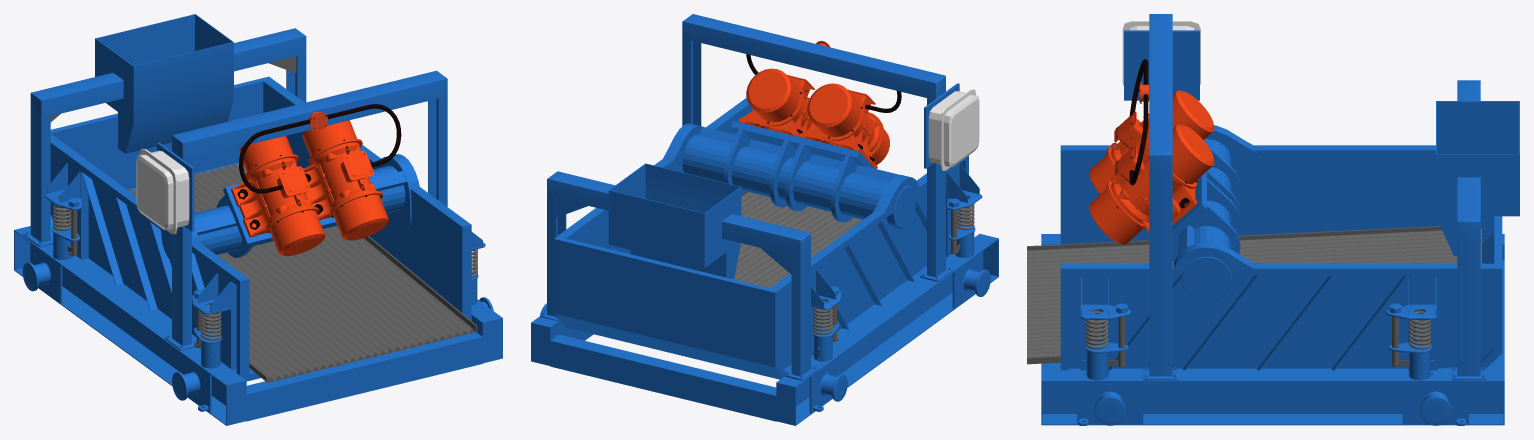
The model's file is Shale Shaker.FBX.
The picture shows the model from 3 angles, left to right: view 1: azimuth 30°, elevation 25°; view 2: azimuth 150°, elevation 25°; view 3: azimuth 270°, elevation 25°; orthographic projection. The views are drawn at different scales.
Visible parts, largest first — view 1: Chassis, Bay, Platform, Cylinder003, Cylinder006, Holder, FuseBox, Cylinder005, Cylinder004, Cable002, Cable001, Spring001; view 2: Chassis, Bay, Holder, Platform, Cylinder006, FuseBox, Cylinder003, Cylinder005, Cylinder004, Spring002; view 3: Bay, Chassis, Platform, Holder, Cylinder003, Cylinder006, Cylinder004, FuseBox, Spring004, Spring003, Cable001.
Part boxes in pixels (bbox=[...]): Chassis: bbox=[14, 14, 502, 425]; Bay: bbox=[44, 76, 485, 381]; Platform: bbox=[128, 163, 477, 383]; Cylinder003: bbox=[302, 120, 388, 240]; Cylinder006: bbox=[239, 136, 325, 255]; Holder: bbox=[161, 154, 419, 261]; FuseBox: bbox=[136, 148, 189, 234]; Cylinder005: bbox=[230, 179, 268, 237]; Cylinder004: bbox=[303, 164, 332, 220]; Cable002: bbox=[239, 119, 310, 193]; Cable001: bbox=[327, 104, 401, 167]; Spring001: bbox=[200, 305, 221, 340]; Chassis: bbox=[531, 14, 998, 425]; Bay: bbox=[553, 98, 982, 379]; Holder: bbox=[663, 121, 919, 228]; Platform: bbox=[734, 191, 971, 288]; Cylinder006: bbox=[807, 83, 889, 165]; FuseBox: bbox=[928, 89, 979, 170]; Cylinder003: bbox=[746, 68, 814, 135]; Cylinder005: bbox=[799, 126, 877, 168]; Cylinder004: bbox=[738, 111, 808, 136]; Spring002: bbox=[813, 301, 832, 334]; Bay: bbox=[1060, 145, 1502, 370]; Chassis: bbox=[1041, 14, 1519, 425]; Platform: bbox=[1027, 224, 1481, 364]; Holder: bbox=[1172, 125, 1257, 301]; Cylinder003: bbox=[1089, 124, 1214, 244]; Cylinder006: bbox=[1089, 90, 1214, 194]; Cylinder004: bbox=[1141, 185, 1196, 232]; FuseBox: bbox=[1122, 21, 1200, 85]; Spring004: bbox=[1408, 307, 1430, 349]; Spring003: bbox=[1086, 307, 1108, 349]; Cable001: bbox=[1129, 94, 1148, 185].
Bounding box in the file's own units: 99.48 × 75.11 × 125.
